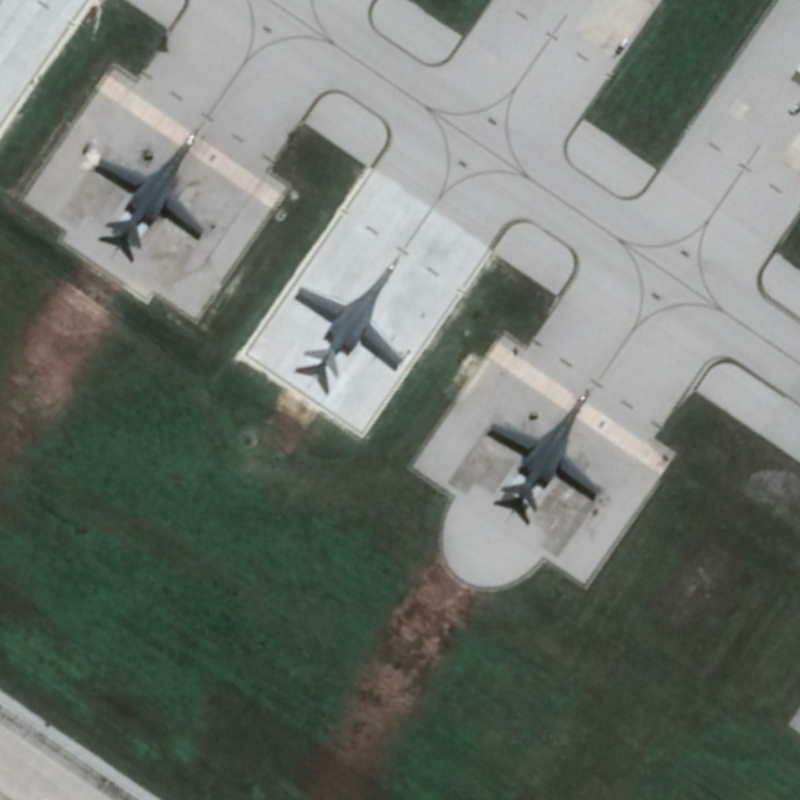A10: (485, 382, 605, 522), (87, 122, 212, 255), (290, 249, 413, 383)
